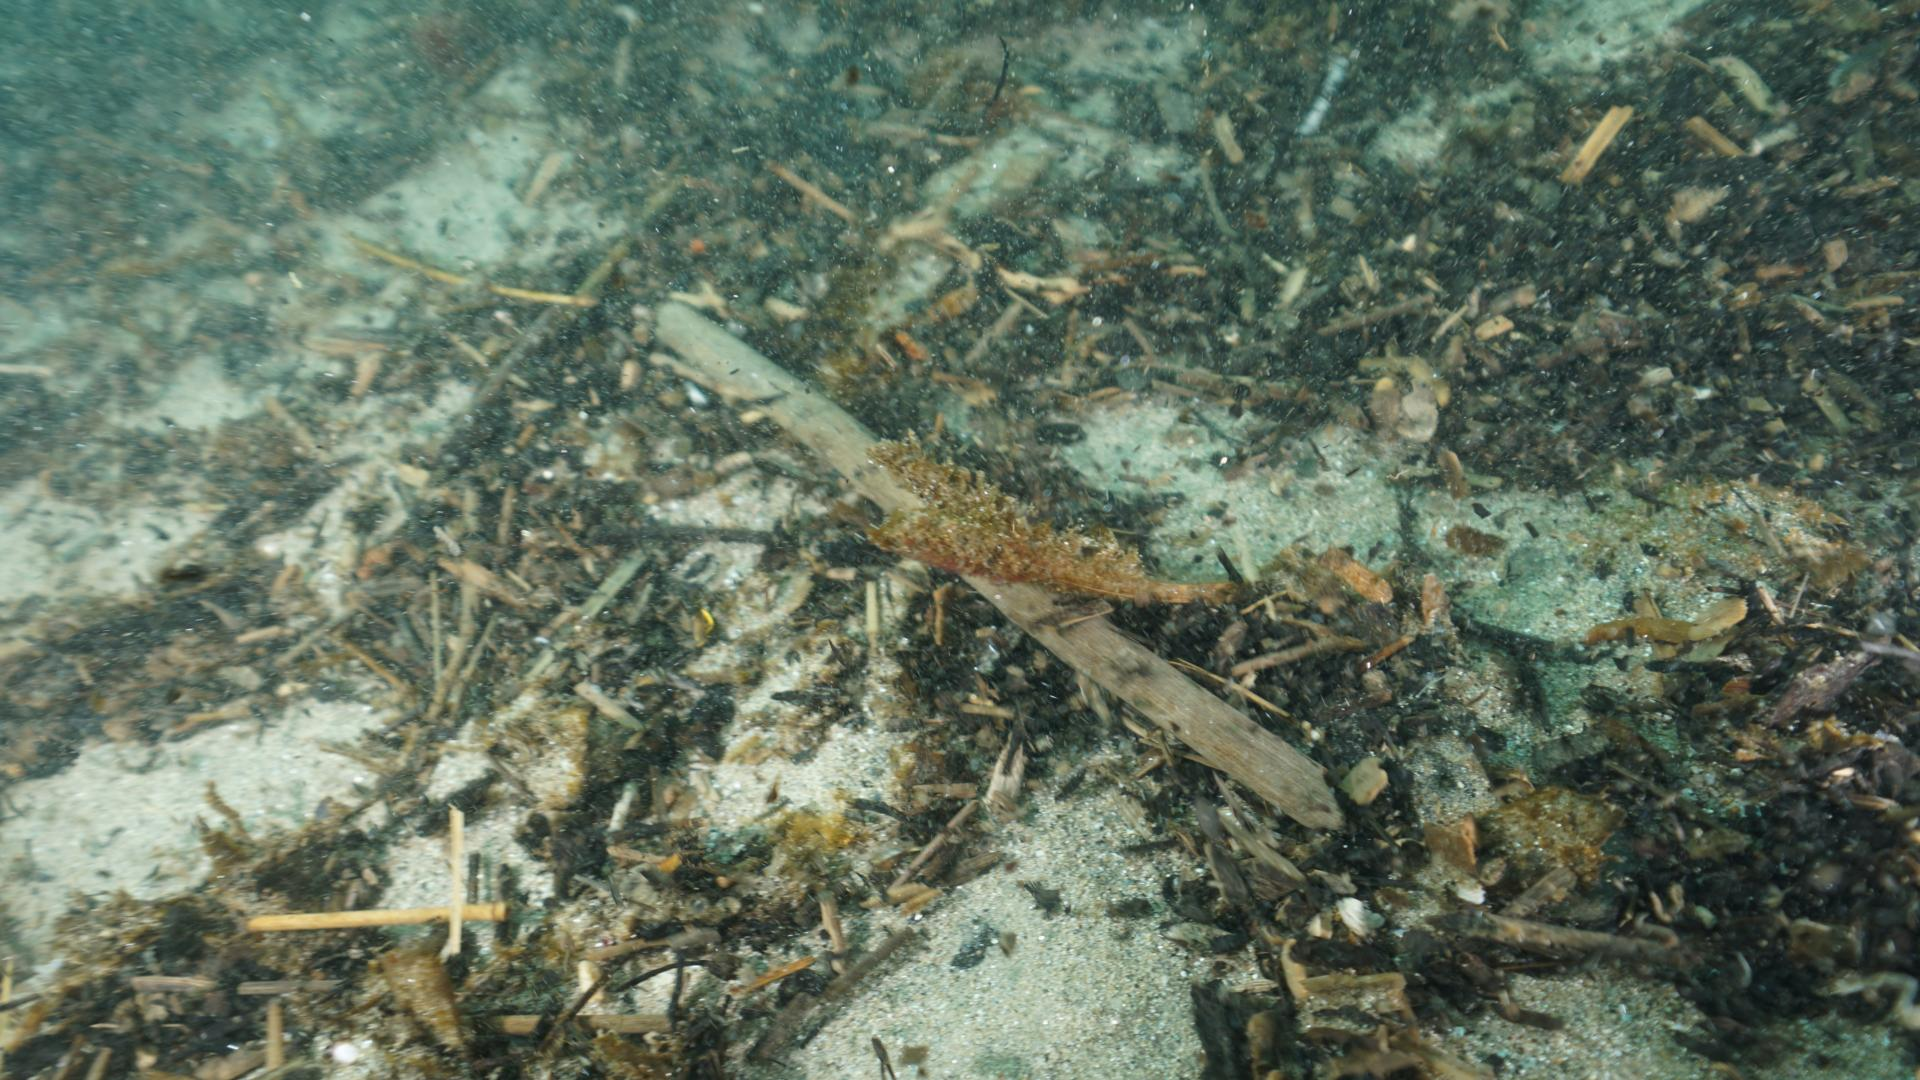wood: (649, 313, 1329, 818), (841, 363, 1830, 665)
